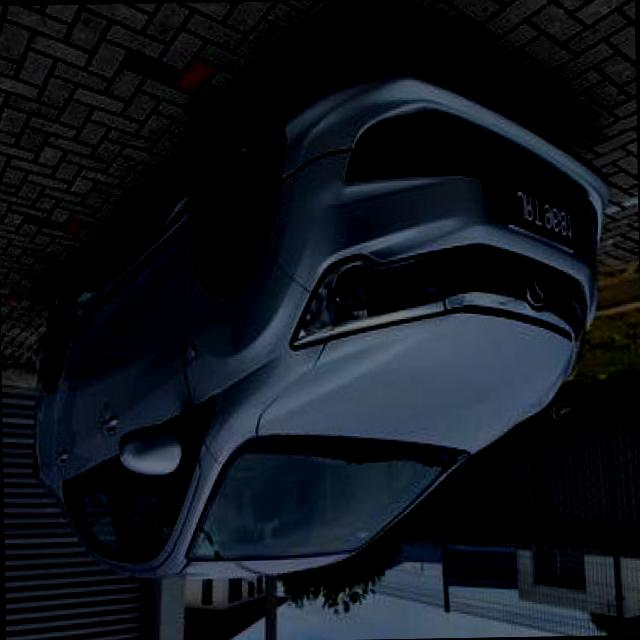PeroduaBezza: (24, 60, 616, 585)
